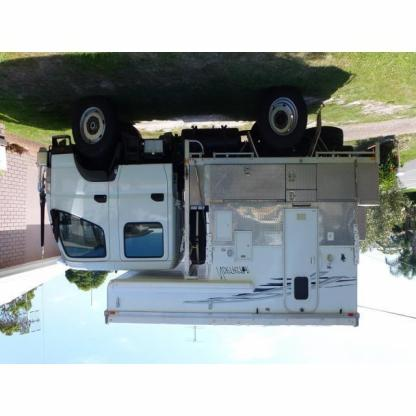truck: (38, 92, 381, 325)
